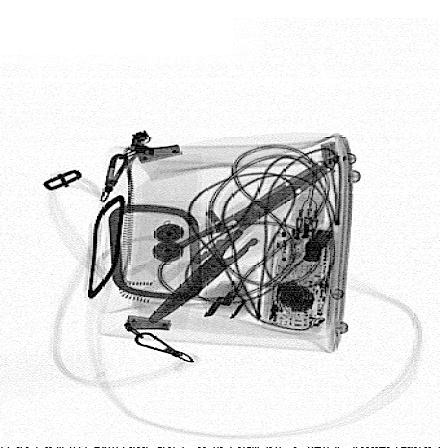Scissors: (159, 152, 344, 256), (143, 224, 262, 327)
